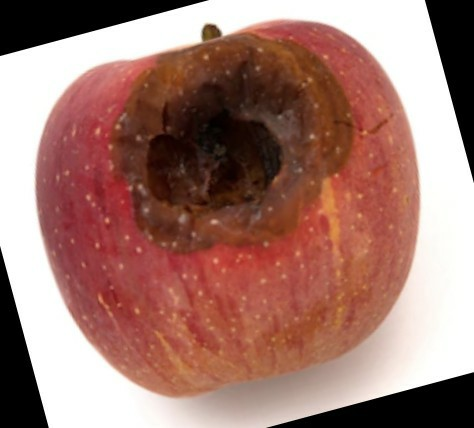rotten_apple: (37, 24, 417, 390)
